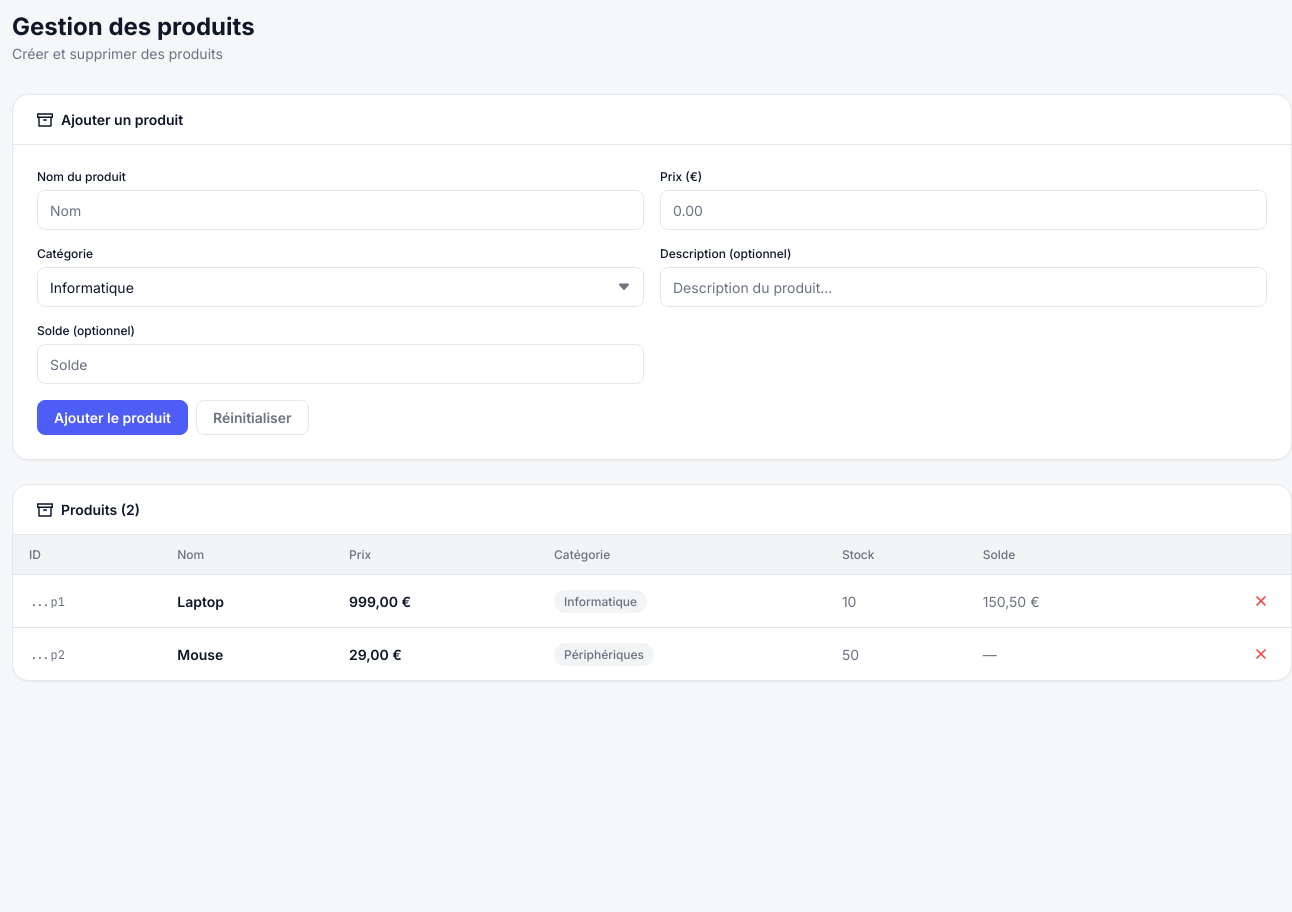
it: AdminProductsPage › deletes a product when delete button is clicked and confirmed
Check: the text "Laptop" is shown, box [161,574,333,628]
Click the delete button (first one)
Click the button titled "Supprimer" in the row of "p1" at (1261, 601), box [1247,587,1275,615]
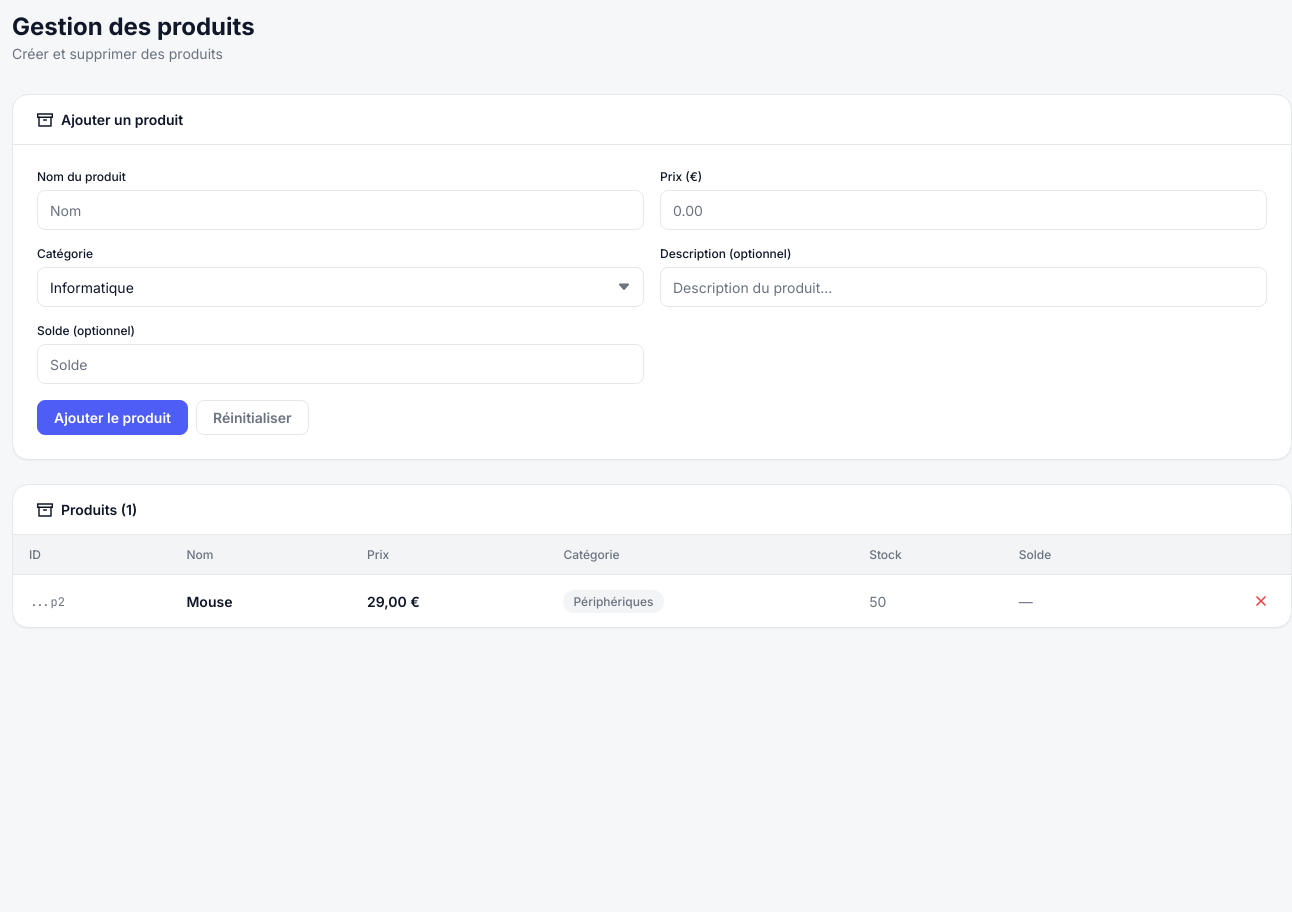
Check: the text "Mouse" is shown, box [170,574,351,627]
Check: the text "Laptop" is gone
